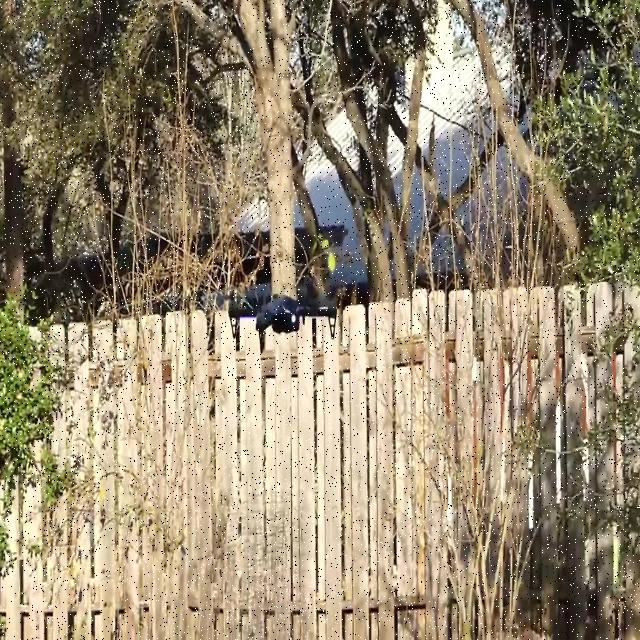UAV: (228, 293, 338, 355)
